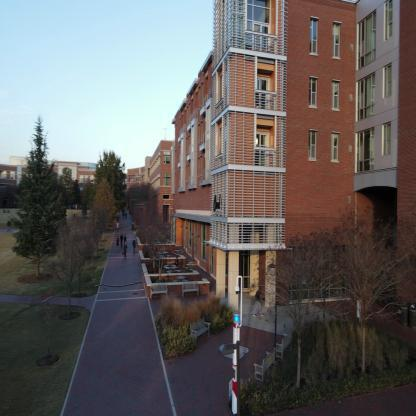Wolf Ridge: (173, 10, 415, 361)
